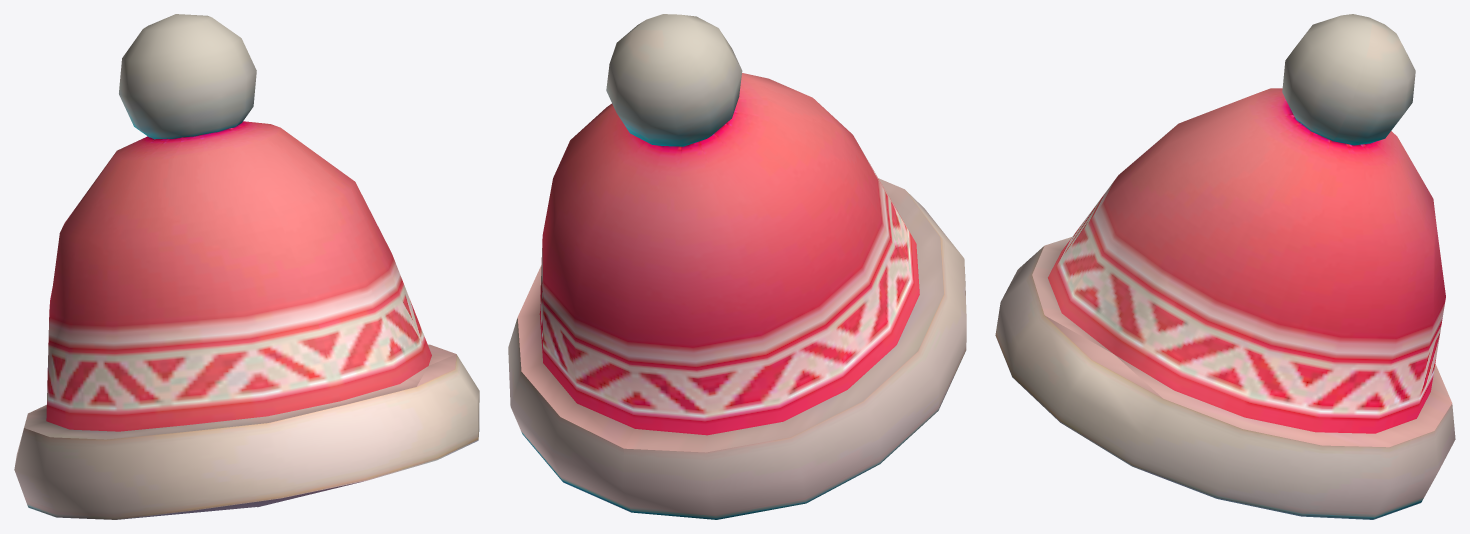
The model's file is helm0065.fbx.
The picture shows the model from 3 angles, left to right: view 1: azimuth 30°, elevation 25°; view 2: azimuth 150°, elevation 25°; view 3: azimuth 270°, elevation 25°; orthographic projection. The views are drawn at different scales.
Visible parts, largest first — view 1: helm0065_m; view 2: helm0065_m; view 3: helm0065_m.
Boxes of the visible parts, x1,y1,x2,y2 form: helm0065_m: [14, 14, 479, 519]; helm0065_m: [508, 14, 966, 519]; helm0065_m: [995, 14, 1455, 519].
Size of the model in its own units: 0.3746 by 0.4096 by 0.3786.
1 material, 1 textured.
